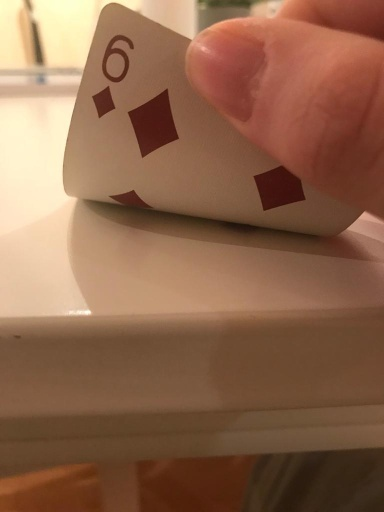D6: (87, 31, 135, 123)
